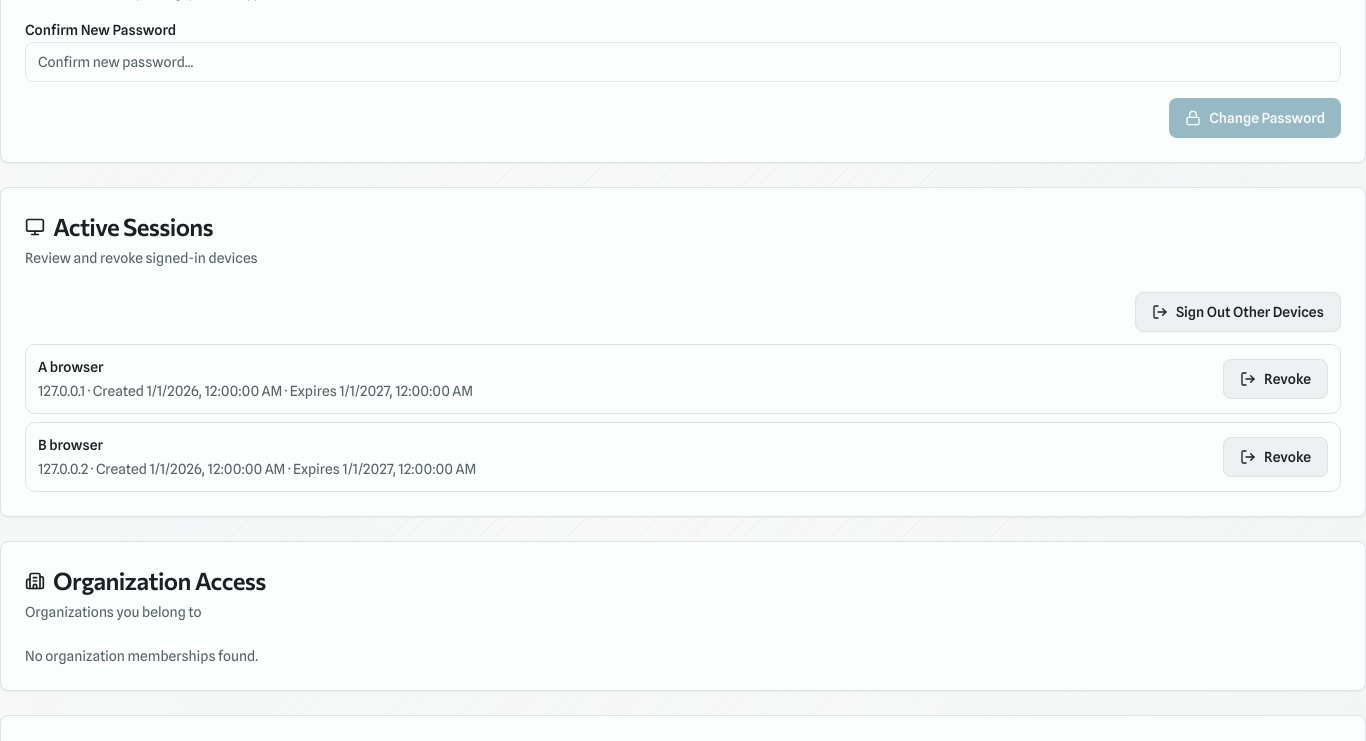
Scenario: ProfilePage supplemental ownership contracts (issue #775) › preserves both committed revoke notifications while the newest sessions read wins
(page scrolled)
expect the text "A browser" is shown: met, box [38,357,104,377]
Click the button with aria-label "Revoke session" at (1276, 379), box [1223,359,1328,399]
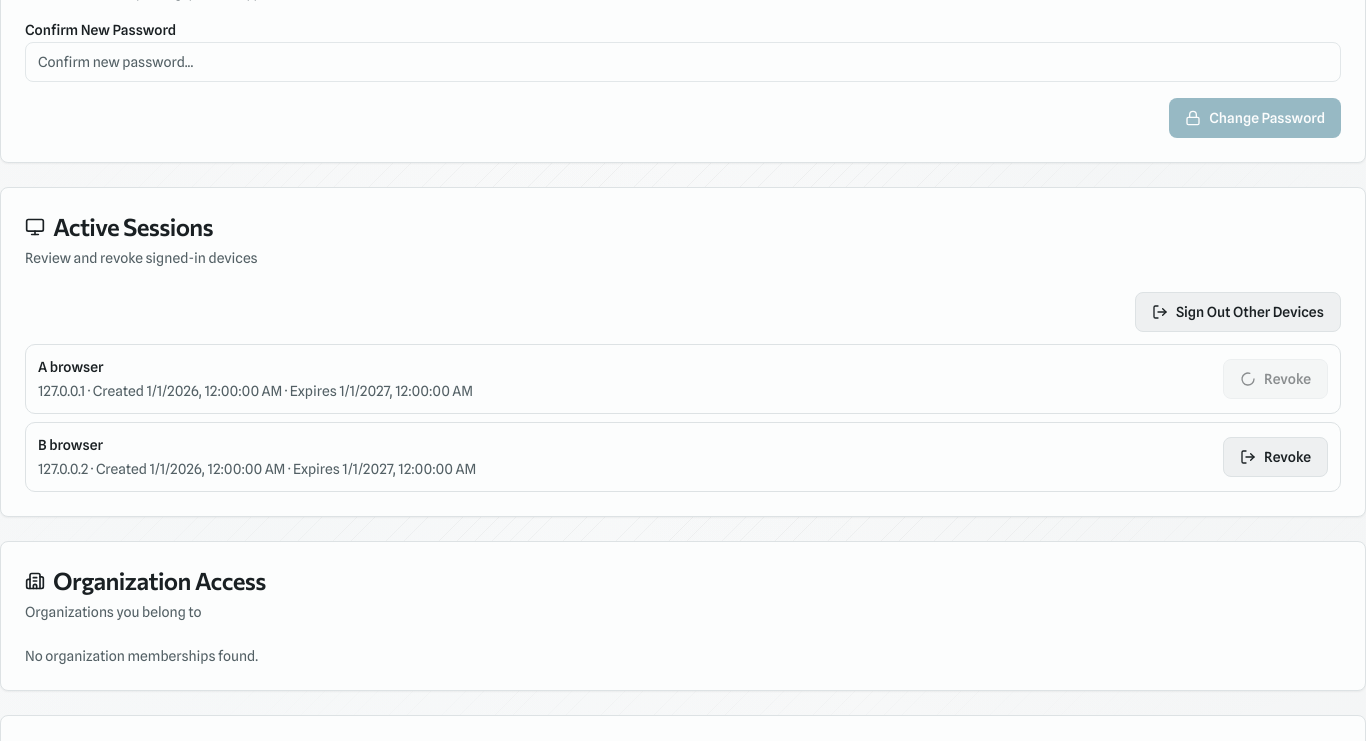
Click the button with aria-label "Revoke session" at (1276, 457), box [1223,437,1328,477]
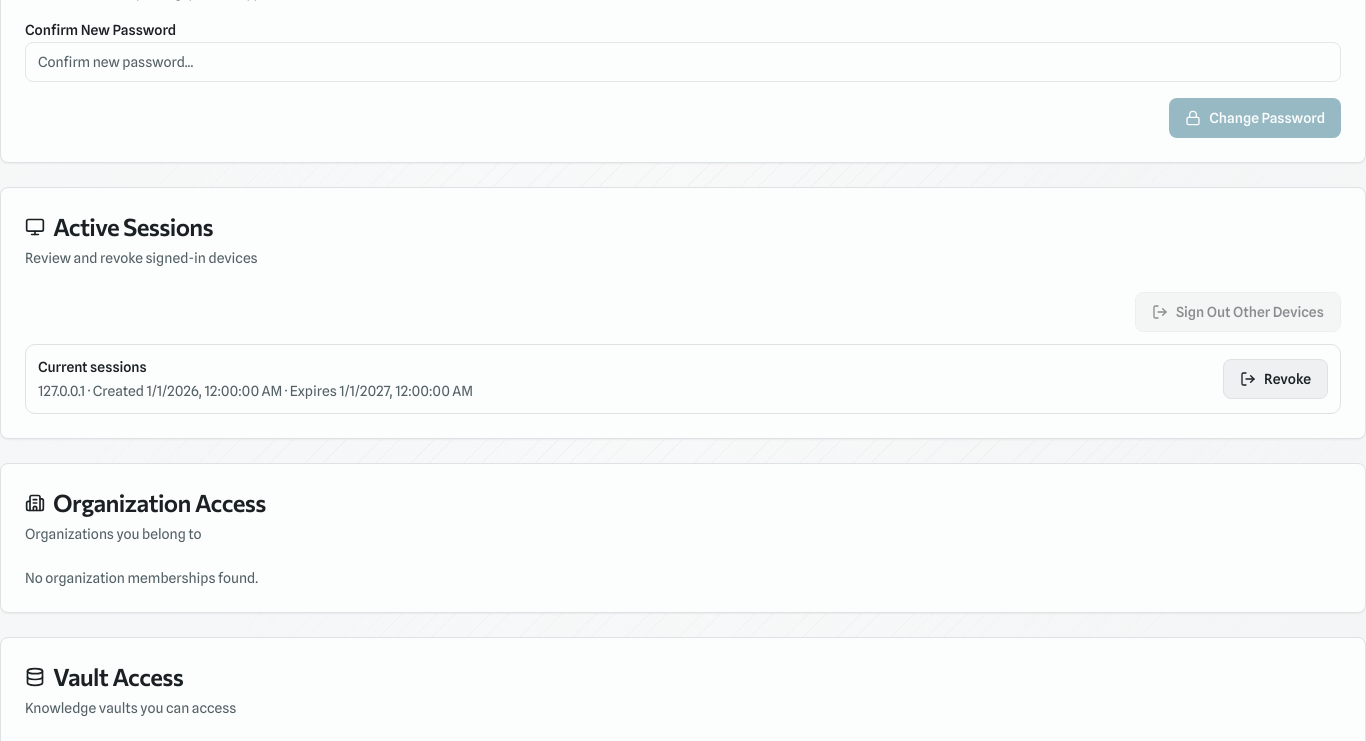
expect the text "Current sessions" is shown: met, box [38,357,147,377]
